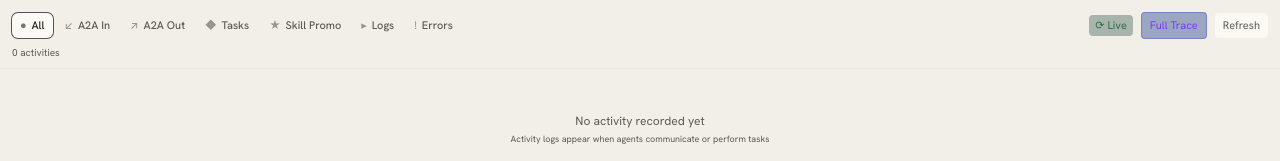
ActivityTab — auto-refresh toggle › clicking Paused toggles back to Live
This screenshot has width=1280, height=161.
Click the button "⟳ Live" at (1111, 25), box [1089,15,1133,36]
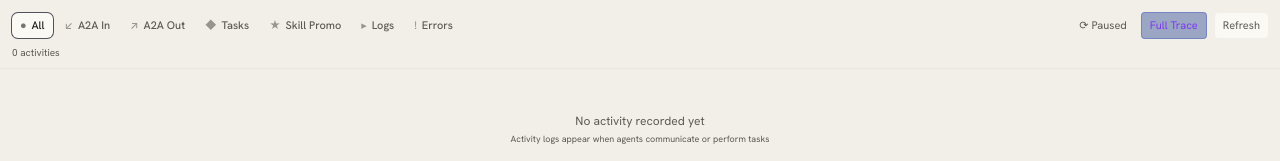
Click the button "⟳ Paused" at (1103, 25), box [1073,15,1133,36]
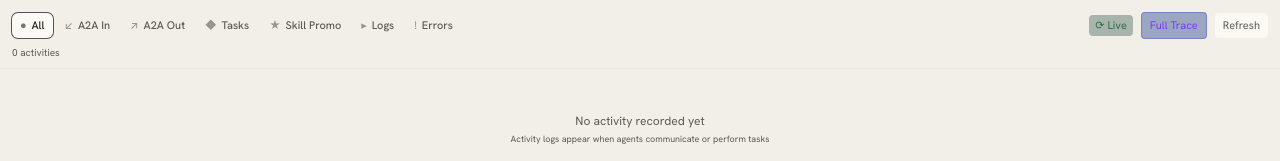
Result: the button "⟳ Live" is shown at [1089,15,1133,36]
